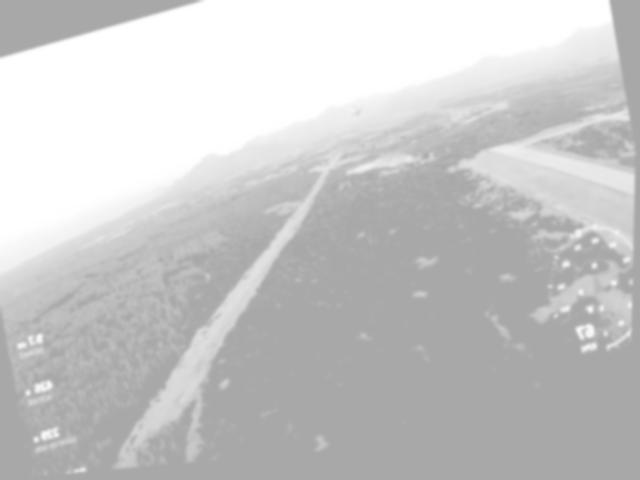hedef: (322, 91, 388, 147)
